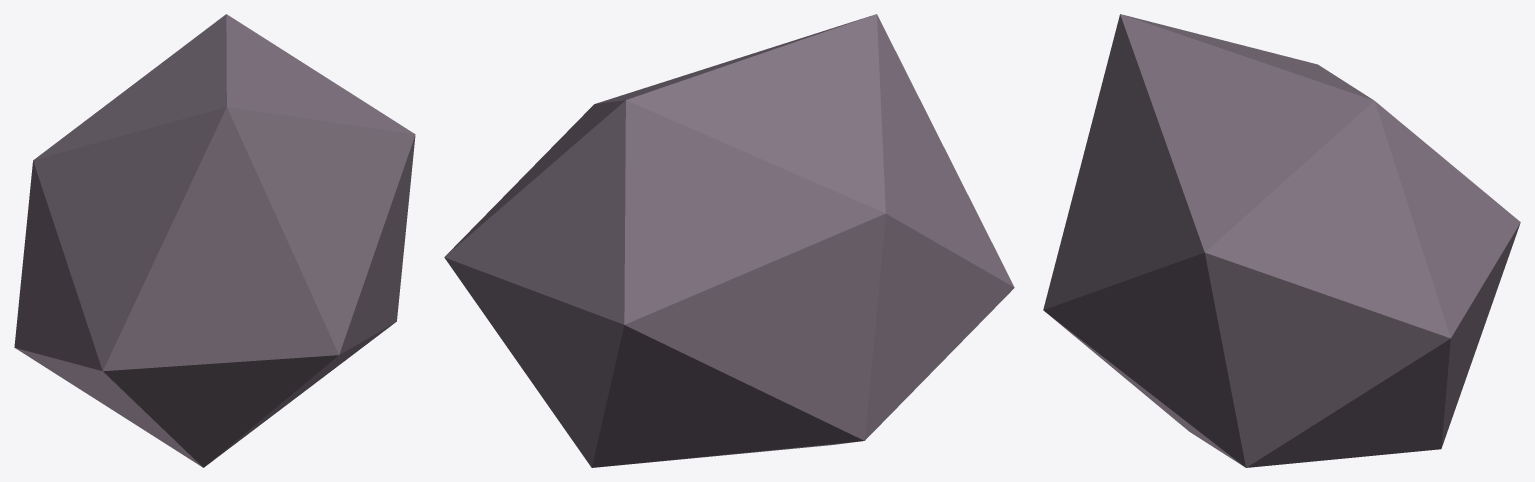
The model's file is Small_stone_v08.fbx.
3 views of the same model, side by side, from view 1: azimuth 30°, elevation 25°; view 2: azimuth 150°, elevation 25°; view 3: azimuth 270°, elevation 25° (orthographic). The views are drawn at different scales.
Parts seen in each view (by area): view 1: Small_stone_v08; view 2: Small_stone_v08; view 3: Small_stone_v08.
Boxes of the visible parts, x1=… form: Small_stone_v08: x1=14, y1=14, x2=415, y2=467; Small_stone_v08: x1=444, y1=14, x2=1014, y2=467; Small_stone_v08: x1=1043, y1=14, x2=1520, y2=467.
Bounding box in the file's own units: 11.18 × 10.8 × 11.32.
1 material, 1 textured.
